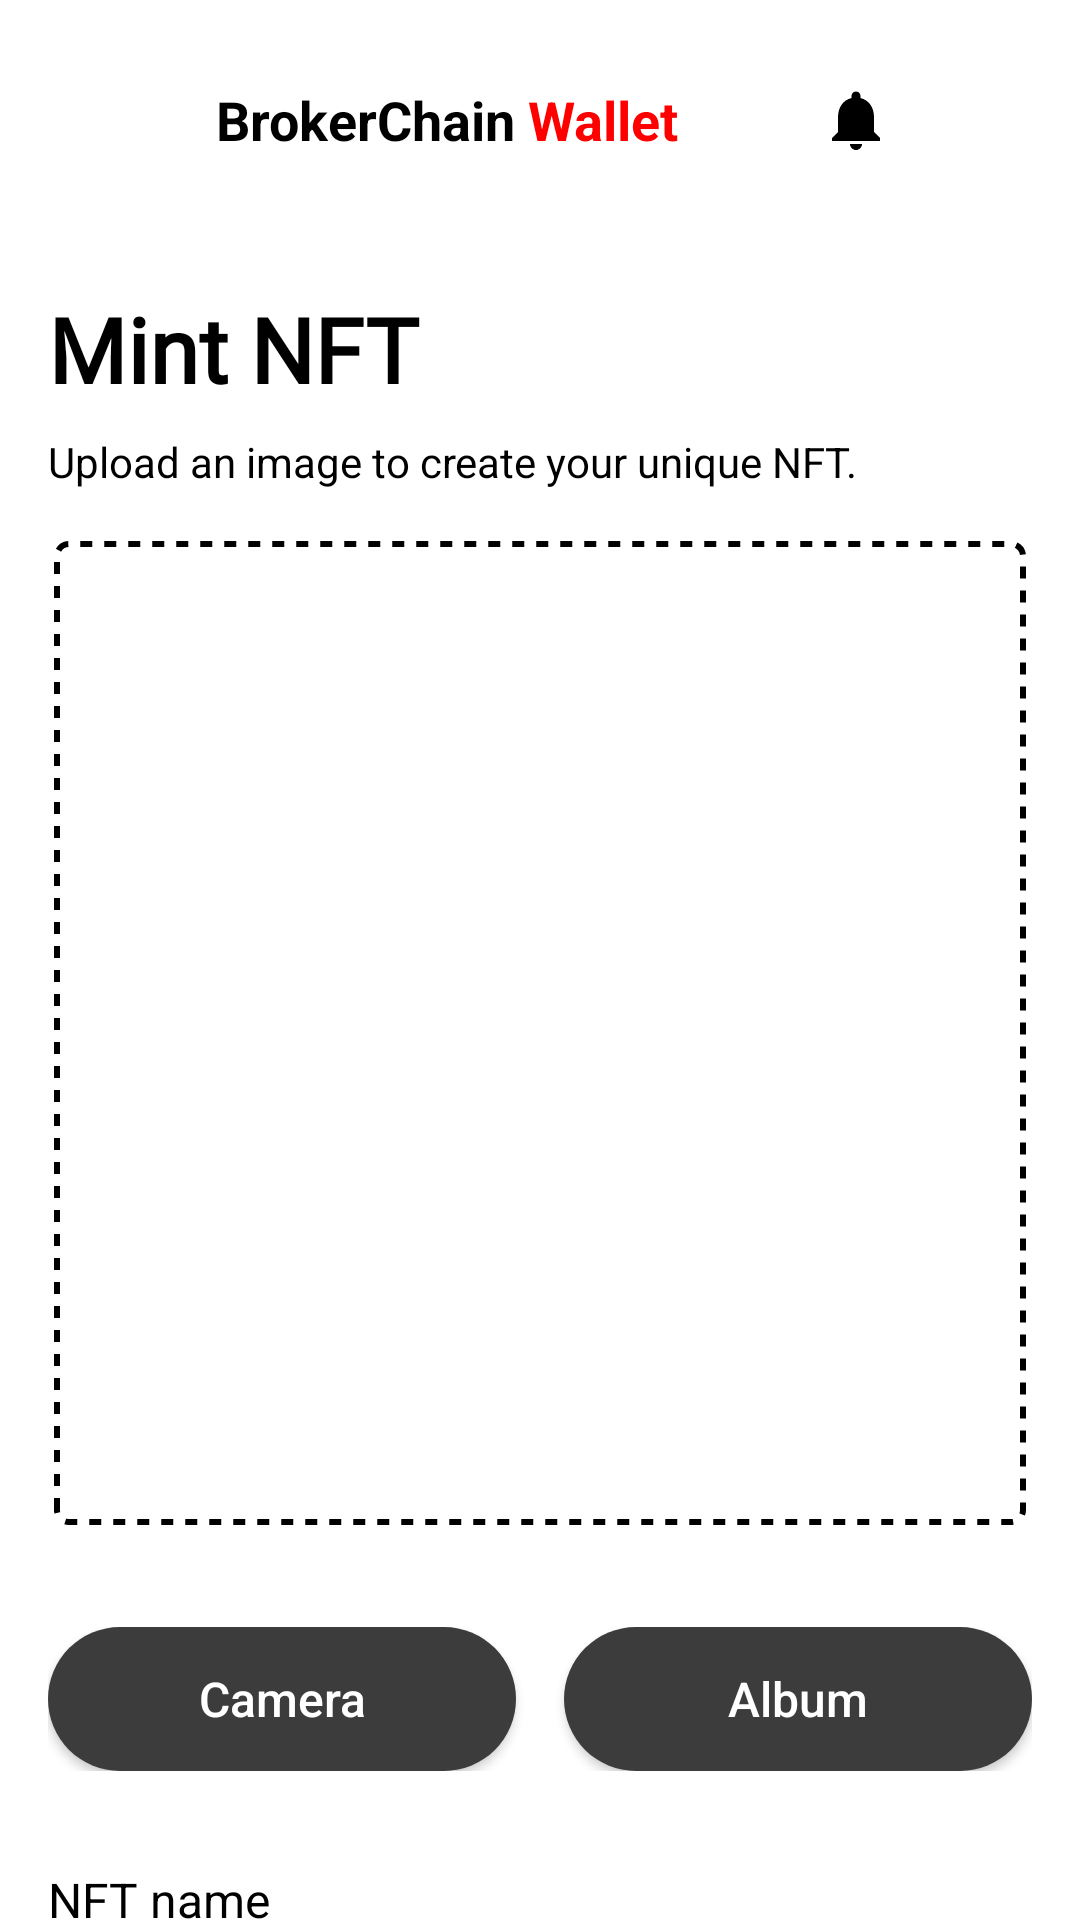

Icon click points for this 1080px×1920px phone screenshot, format (x=x, y=y):
Notifications: (x=856, y=120)
